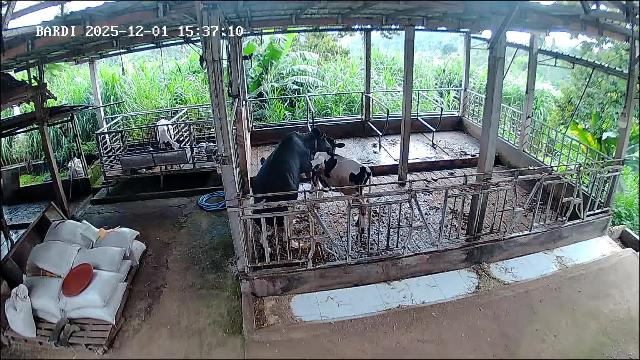mounting: (250, 128, 323, 263)
